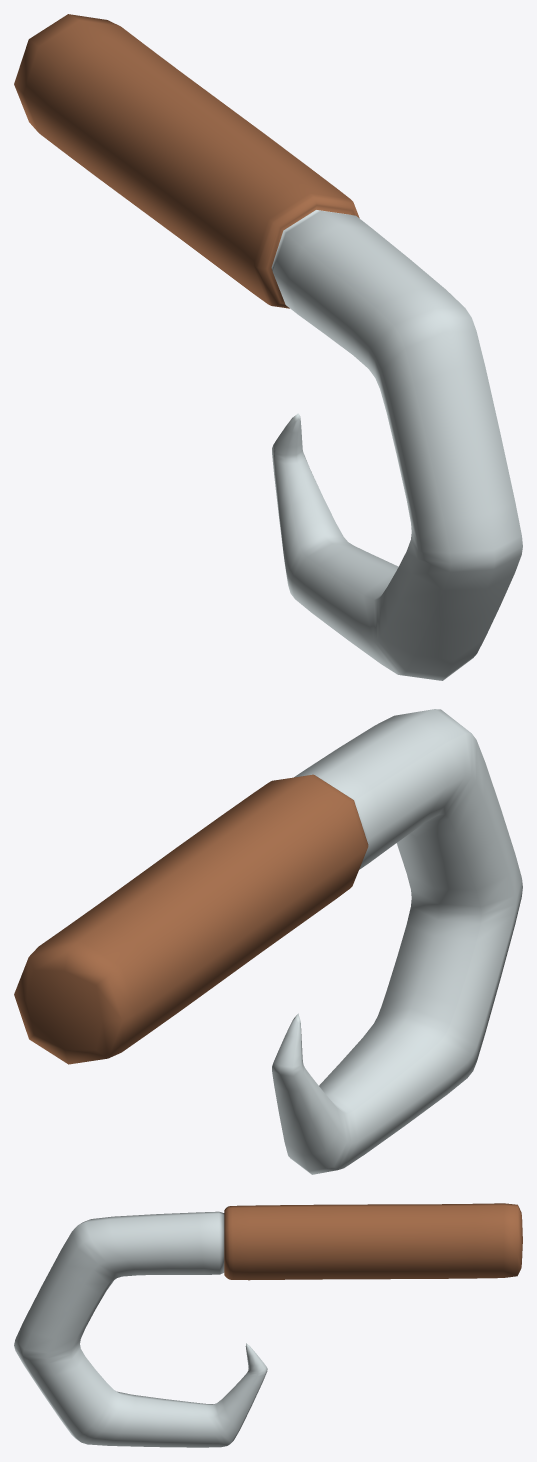
File: hook.fbx
3 renders of one model, top to bottom at view 1: azimuth 30°, elevation 25°; view 2: azimuth 150°, elevation 25°; view 3: azimuth 270°, elevation 25°, orthographic. The views are drawn at different scales.
Parts seen in each view (by area): view 1: Cube; view 2: Cube; view 3: Cube.
Boxes of the visible parts, box(x1,y1,x2,y2) form: Cube: box(14, 14, 522, 680); Cube: box(14, 709, 522, 1174); Cube: box(14, 1203, 522, 1447).
Bounding box in the file's own units: 1.83 × 6.28 × 12.06.
Materials: 1 (1 with a texture image).
